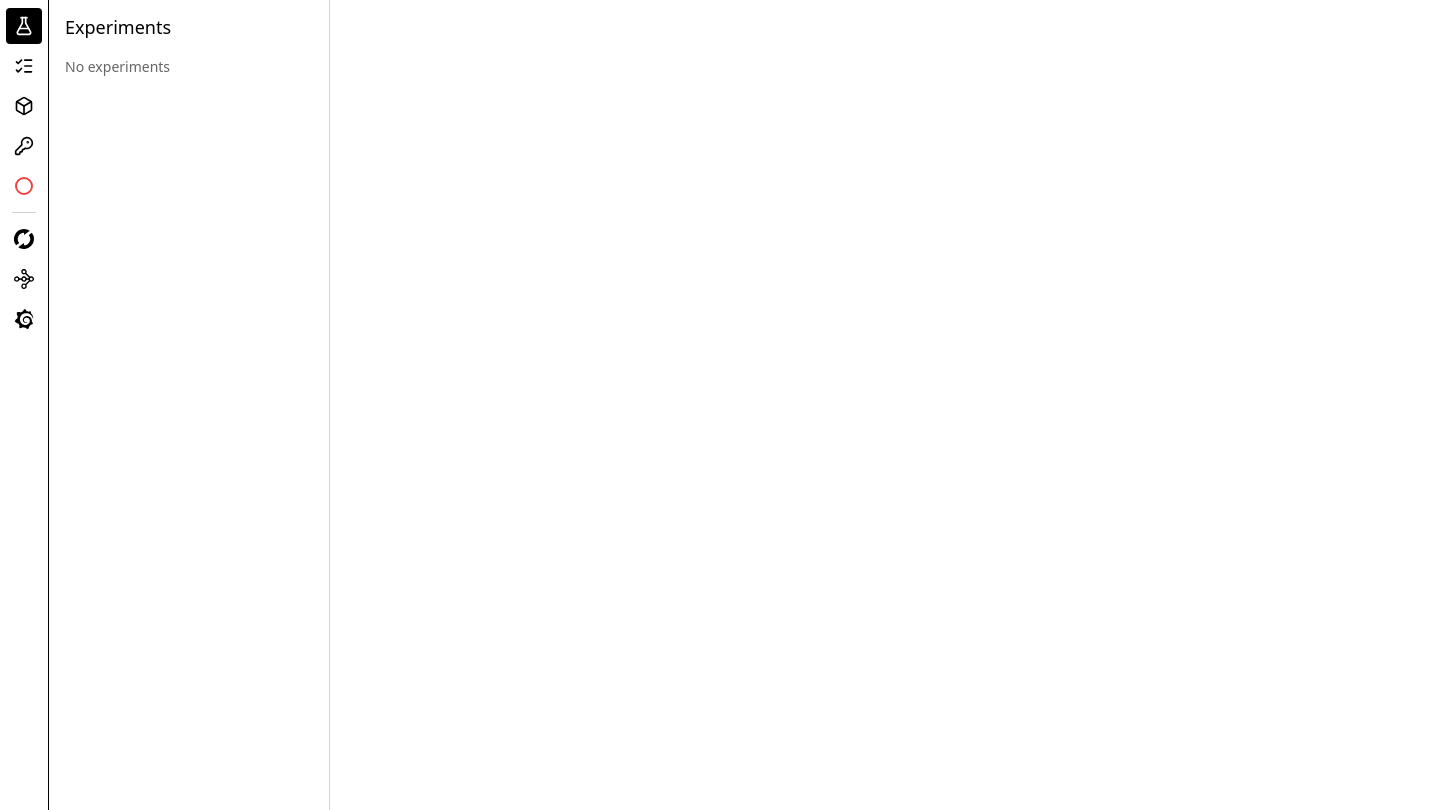
Scenario: App › opens the jobs table from the nav rail
Click the button named "jobs".
click(24, 66)  # box top-left (6, 48), bottom-right (42, 84)
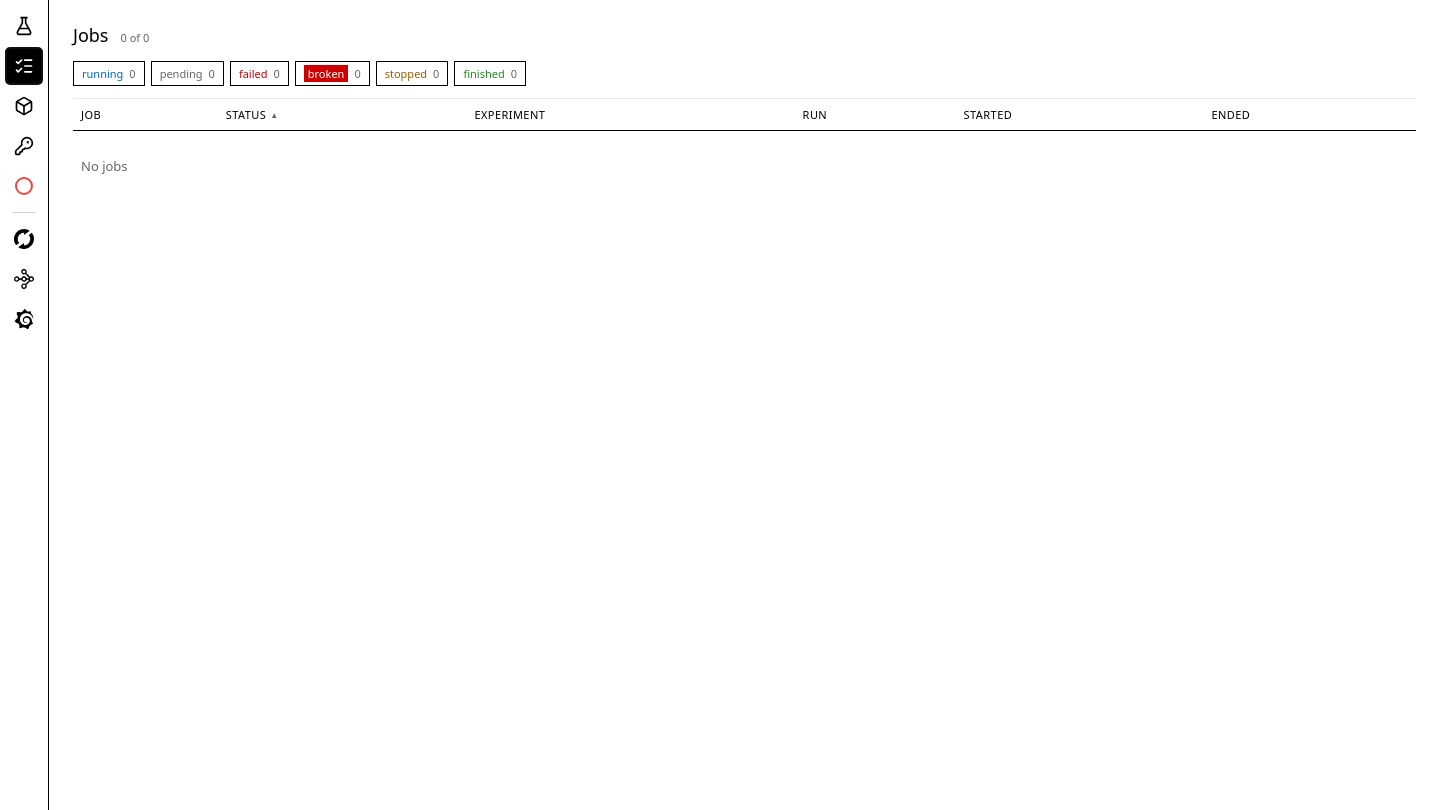
Expected: the heading "Jobs" is shown, top-left (73, 24), bottom-right (108, 47)
